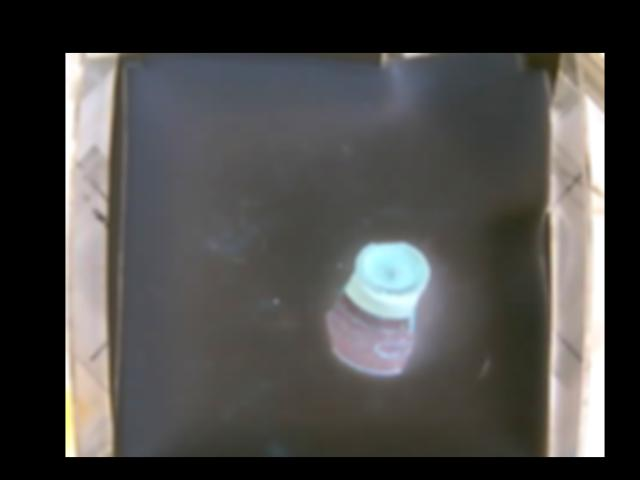China: (326, 239, 431, 375)
